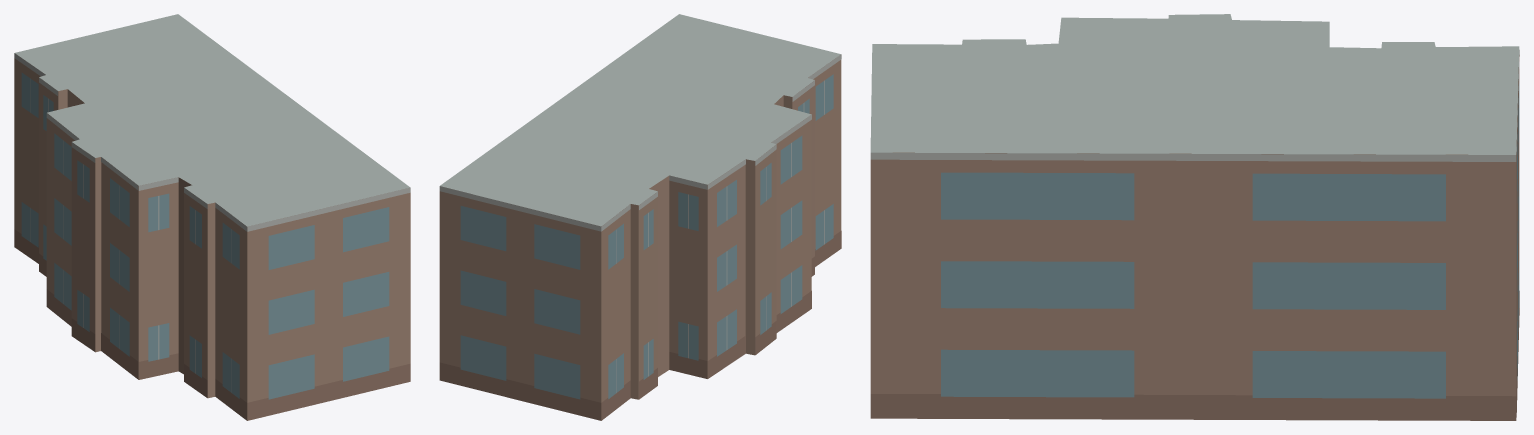
File: survey-upis-32976051.glb
The picture shows the model from 3 angles, left to right: view 1: azimuth 30°, elevation 25°; view 2: azimuth 150°, elevation 25°; view 3: azimuth 270°, elevation 25°; orthographic projection. The views are drawn at different scales.
Parts seen in each view (by area): view 1: survey-upis-32976051.tmp; view 2: survey-upis-32976051.tmp; view 3: survey-upis-32976051.tmp.
Part boxes in pixels (x1,y1,x2,y2): survey-upis-32976051.tmp: [14, 14, 410, 420]; survey-upis-32976051.tmp: [439, 14, 841, 420]; survey-upis-32976051.tmp: [870, 14, 1519, 420].
Bounding box in the file's own units: 10.41 × 9.15 × 20.25.
